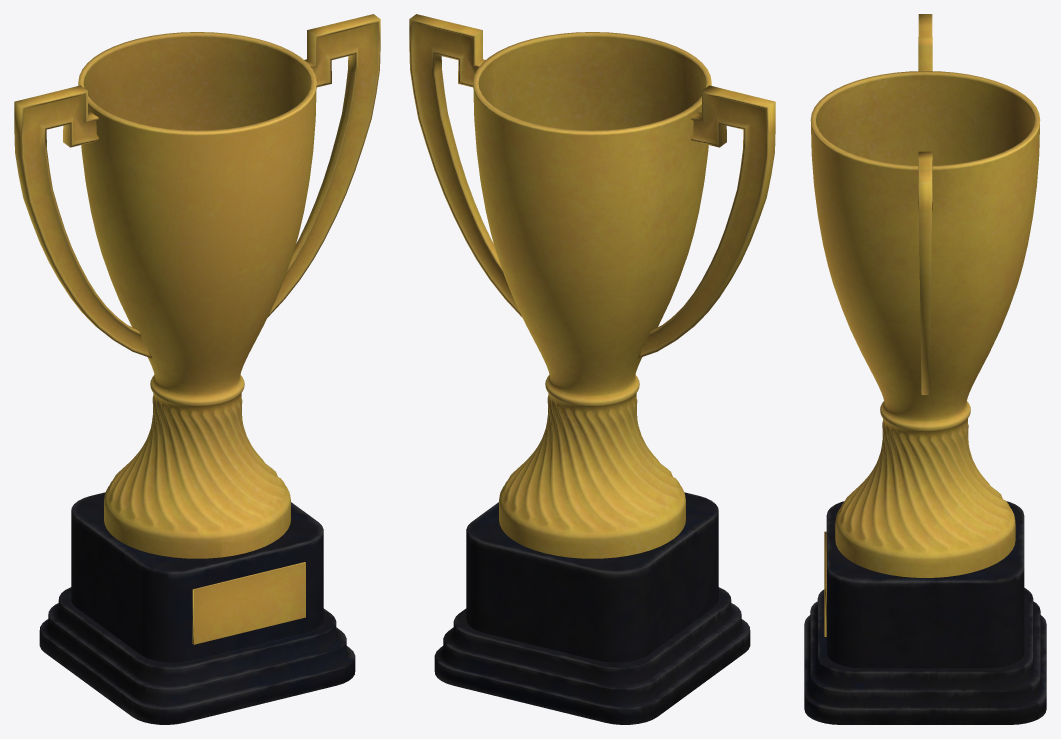
File: Trophy-Cup-Medium.fbx
The picture shows the model from 3 angles, left to right: view 1: azimuth 30°, elevation 25°; view 2: azimuth 150°, elevation 25°; view 3: azimuth 270°, elevation 25°; orthographic projection. The views are drawn at different scales.
Visible parts, largest first — view 1: Trophy Cup Medium; view 2: Trophy Cup Medium; view 3: Trophy Cup Medium.
Part boxes in pixels (<box>): Trophy Cup Medium: <box>14,14,380,724</box>; Trophy Cup Medium: <box>409,14,775,724</box>; Trophy Cup Medium: <box>804,14,1046,724</box>.
Bounding box in the file's own units: 20.66 × 32.97 × 12.52.
1 material, 1 textured.
